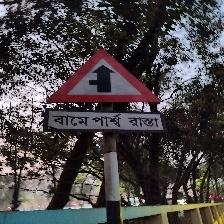Side-road-left: (43, 48, 166, 136)
